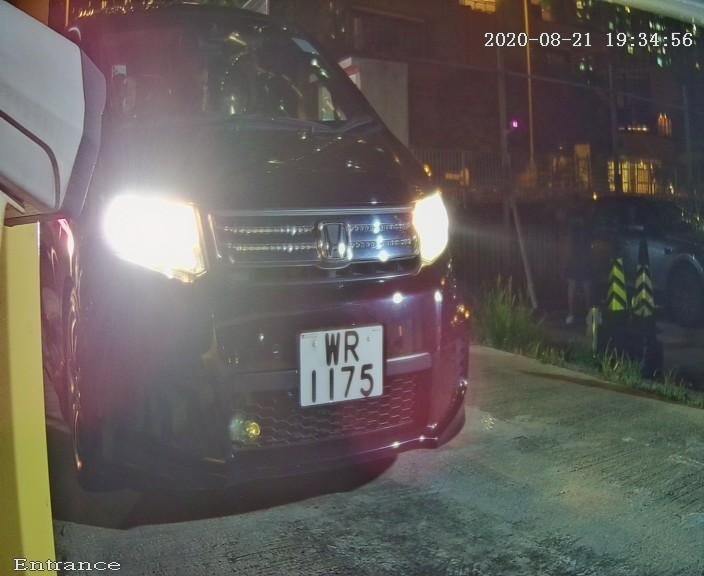Car: (4, 3, 503, 543)
License Plate: (283, 317, 396, 415)
